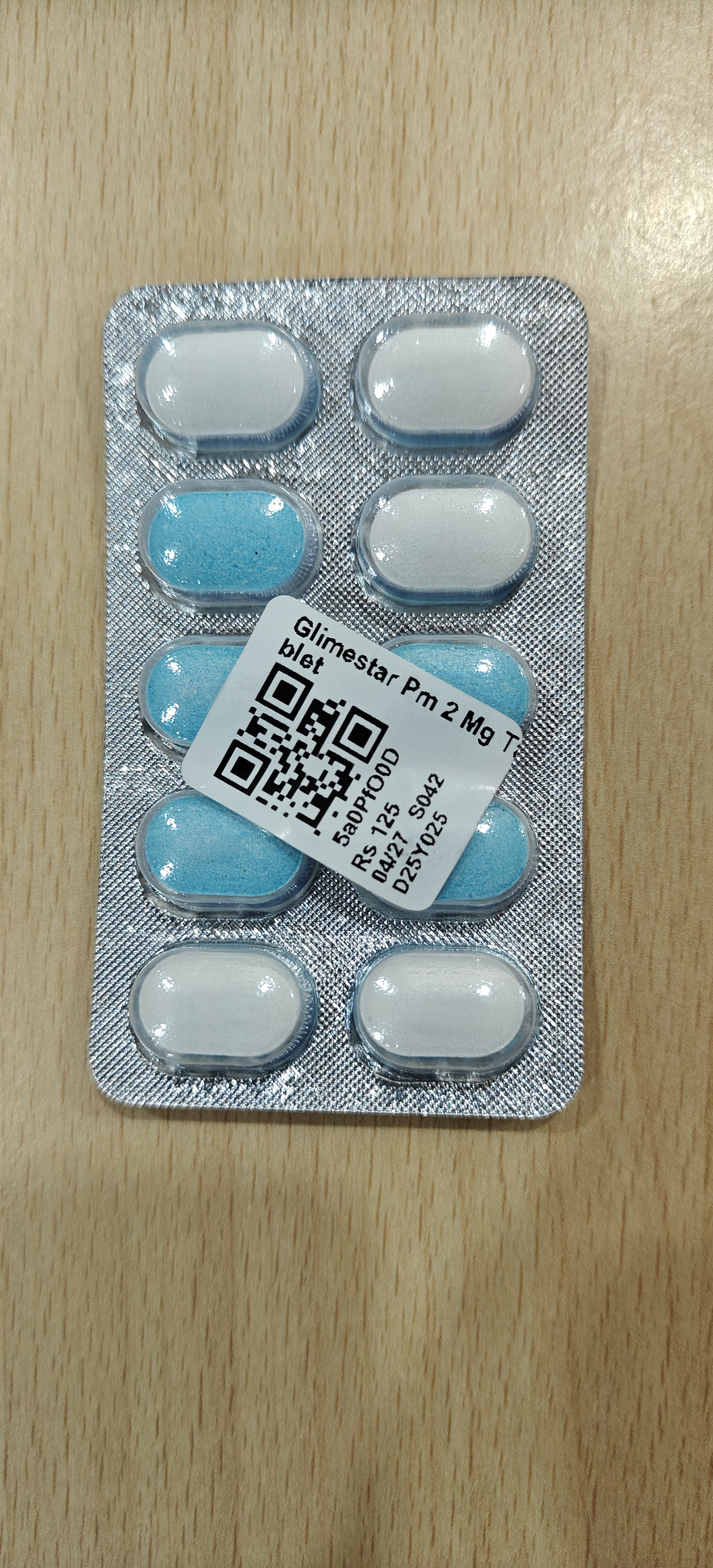qr_code: (213, 661, 389, 840)
